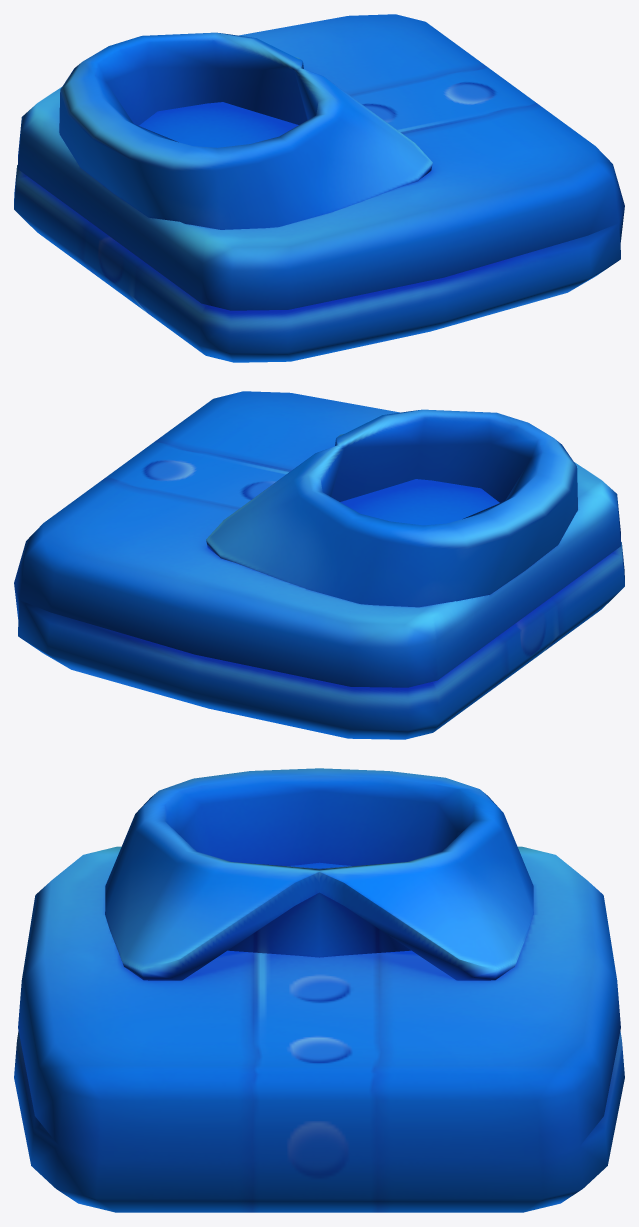
File: Shirt.fbx
3 renders of one model, top to bottom at view 1: azimuth 30°, elevation 25°; view 2: azimuth 150°, elevation 25°; view 3: azimuth 270°, elevation 25°, orthographic. The views are drawn at different scales.
Parts seen in each view (by area): view 1: Shirt; view 2: Shirt; view 3: Shirt.
Boxes of the visible parts, left/top/right/bottom form: Shirt: left=14, top=14, right=624, bottom=362; Shirt: left=14, top=391, right=624, bottom=739; Shirt: left=14, top=768, right=624, bottom=1212.
Size of the model in its own units: 99.5 by 40.48 by 99.59.
